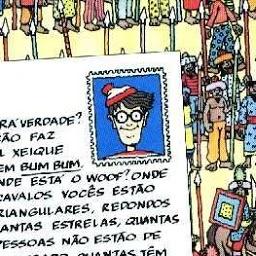waldo: (100, 83, 156, 150)
